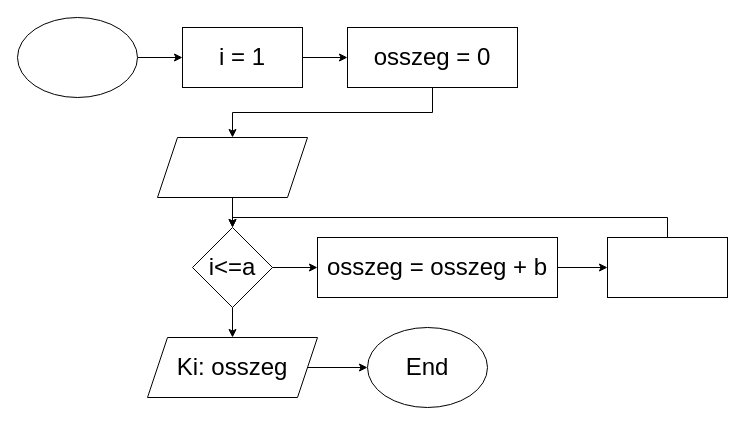
This 745x425 diagram has some shape labels left out. The shapes that lost their labels are listed below. From the top down, each one's centre as x and y in pixels, then its label:
point 77,57: Start
point 232,167: Be: a,b
point 667,267: i = i + 1
